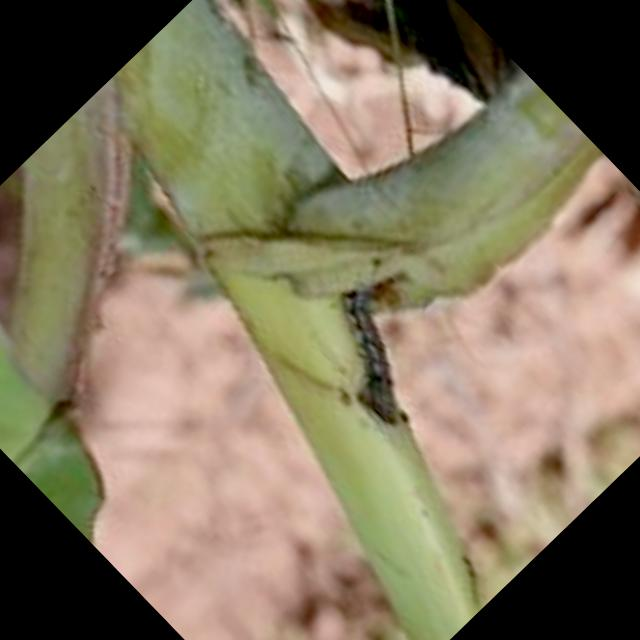Tobacco cutworm: (190, 154, 550, 512)
